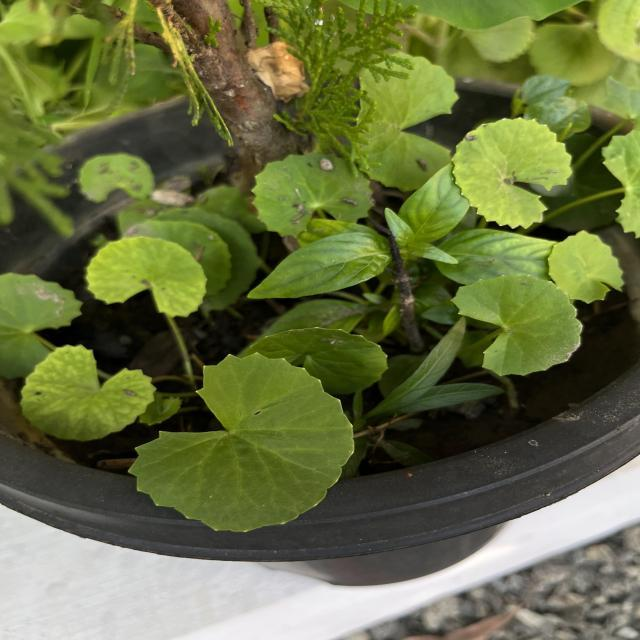Centella asiatica: (123, 348, 359, 538), (448, 112, 578, 232), (445, 271, 587, 379)
